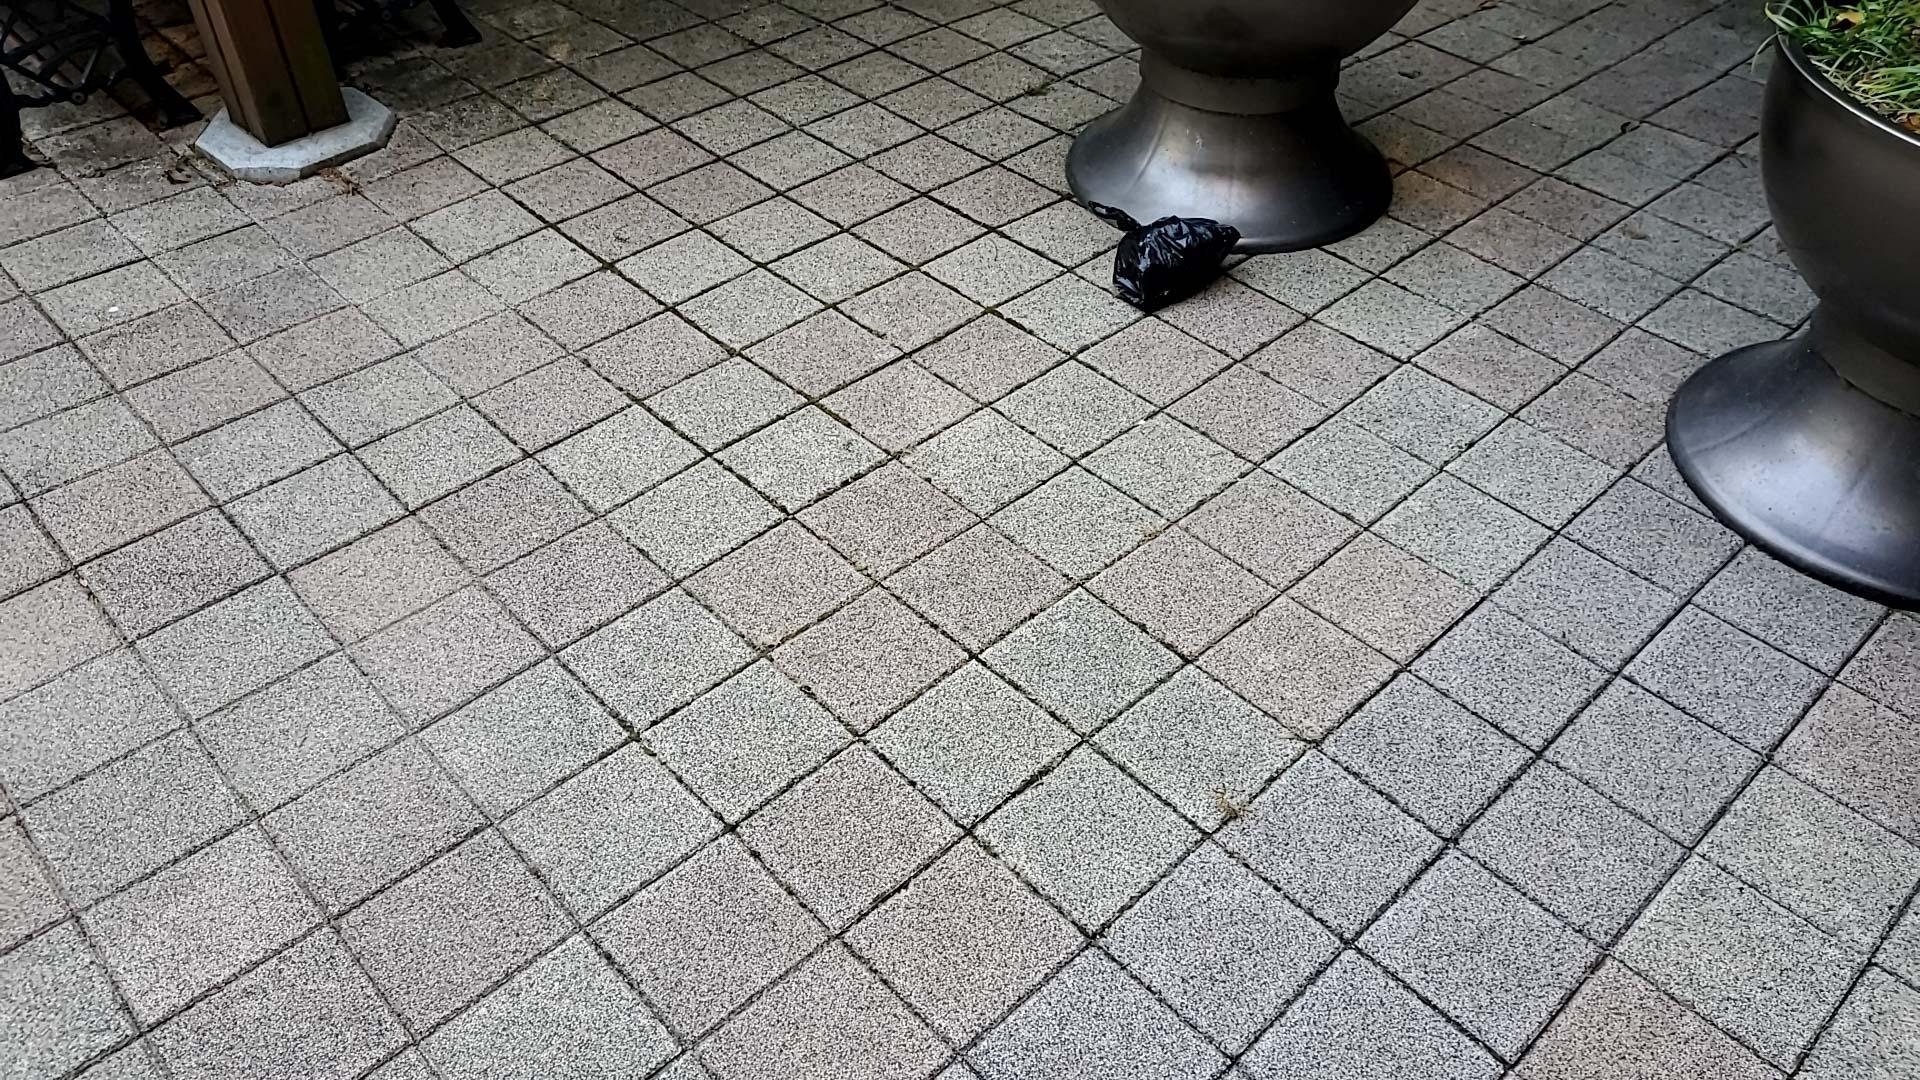black_bag: (1071, 191, 1247, 314)
